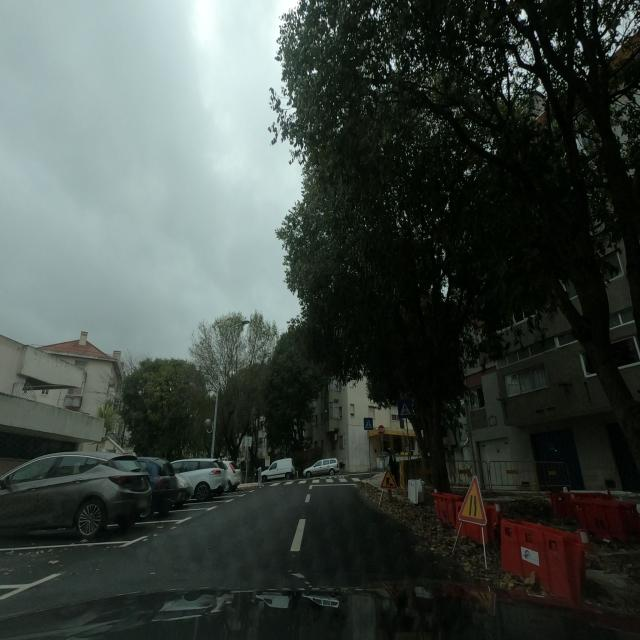car: (0, 452, 152, 542), (135, 456, 185, 516), (170, 458, 227, 502), (260, 458, 296, 481), (218, 459, 241, 491), (303, 458, 339, 477)
